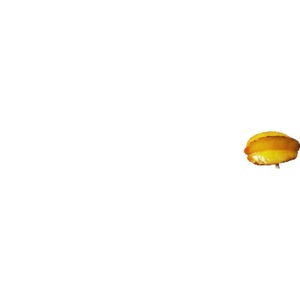carambola: (244, 132, 300, 170)
